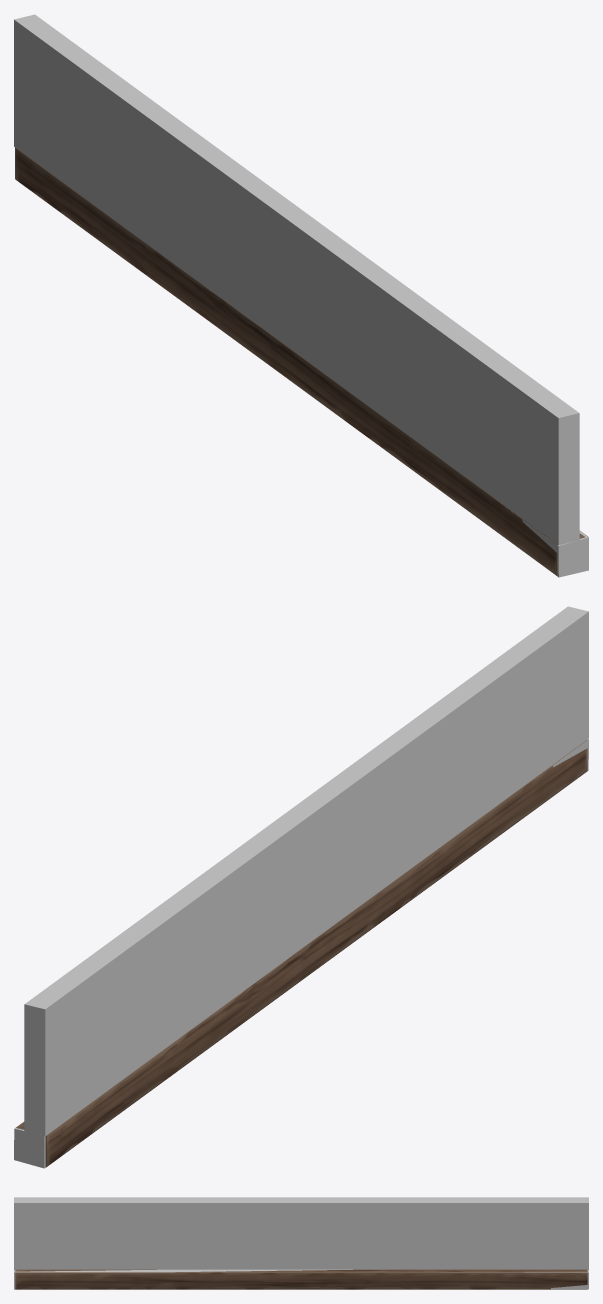
The model's file is SM_Hangar01W_5.fbx.
3 views of the same model, one above another, from view 1: azimuth 30°, elevation 25°; view 2: azimuth 150°, elevation 25°; view 3: azimuth 270°, elevation 25° (orthographic). The views are drawn at different scales.
Visible parts, largest first — view 1: SM_Hangar01W_5_ConvexHulls, SM_Hangar01W_5; view 2: SM_Hangar01W_5_ConvexHulls, SM_Hangar01W_5; view 3: SM_Hangar01W_5_ConvexHulls, SM_Hangar01W_5.
Part boxes in pixels (x1,y1,x2,y2): SM_Hangar01W_5_ConvexHulls: (14,14,588,577); SM_Hangar01W_5: (15,148,587,575); SM_Hangar01W_5_ConvexHulls: (14,606,588,1168); SM_Hangar01W_5: (16,739,587,1167); SM_Hangar01W_5_ConvexHulls: (14,1197,588,1289); SM_Hangar01W_5: (15,1269,587,1289).
Size of the model in its own units: 15.07 by 452 by 73.12.
4 materials, 3 textured.
